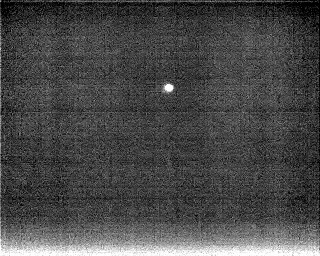AIRPLANE: (161, 81, 176, 95)
